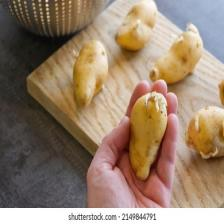Sprouted potato: (124, 88, 168, 187), (150, 23, 204, 86), (68, 34, 110, 108), (181, 101, 224, 164), (114, 0, 159, 52)
